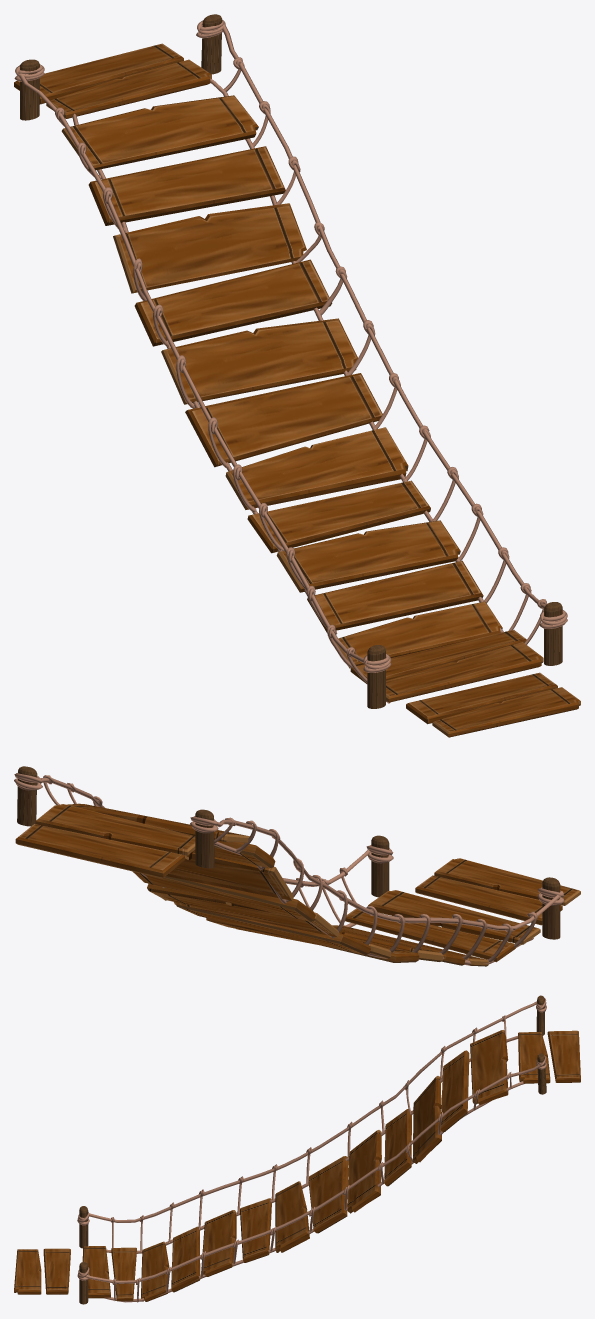
3 views of the same model, one above another, from view 1: azimuth 30°, elevation 25°; view 2: azimuth 150°, elevation 25°; view 3: azimuth 270°, elevation 25° (orthographic). The views are drawn at different scales.
Visible parts, largest first — view 1: 橋2; view 2: 橋2; view 3: 橋2.
Part boxes in pixels (x1,y1,x2,y2): 橋2: (14, 14, 580, 737); 橋2: (14, 766, 580, 966); 橋2: (14, 995, 580, 1304).
Bounding box in the file's own units: 742 × 1294 × 2622.
3 materials, 2 textured.
